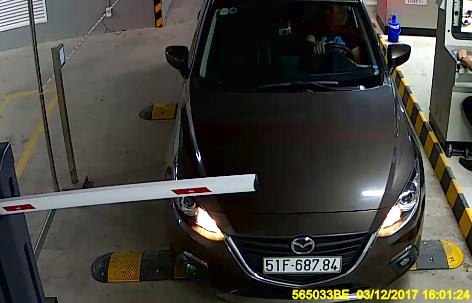plate: (262, 253, 343, 274)
